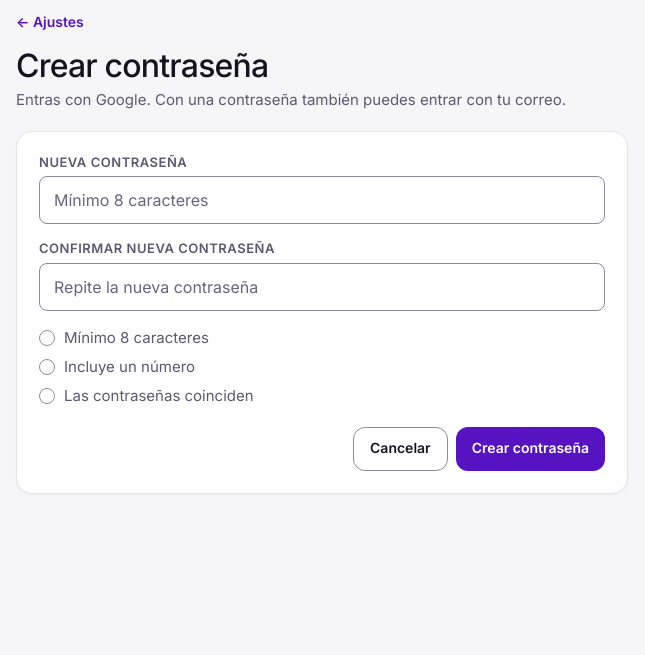
Test: Ajustes › offers "Crear contraseña" without a current password to an account that signs in with Google
Expected: the heading "Crear contraseña" is shown, [16,46,268,85]
Expected: the field labelled "CONTRASEÑA ACTUAL" is not shown
Type "nueva1234" into the password field labelled "NUEVA CONTRASEÑA" at point(322, 200), box [39,176,605,224]
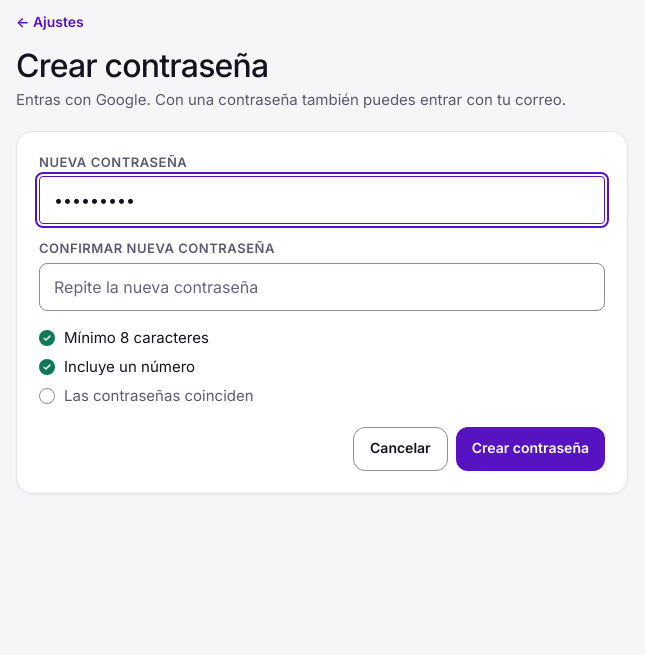
Type "nueva1234" into the password field labelled "CONFIRMAR NUEVA CONTRASEÑA" at point(322, 287), box [39,263,605,311]
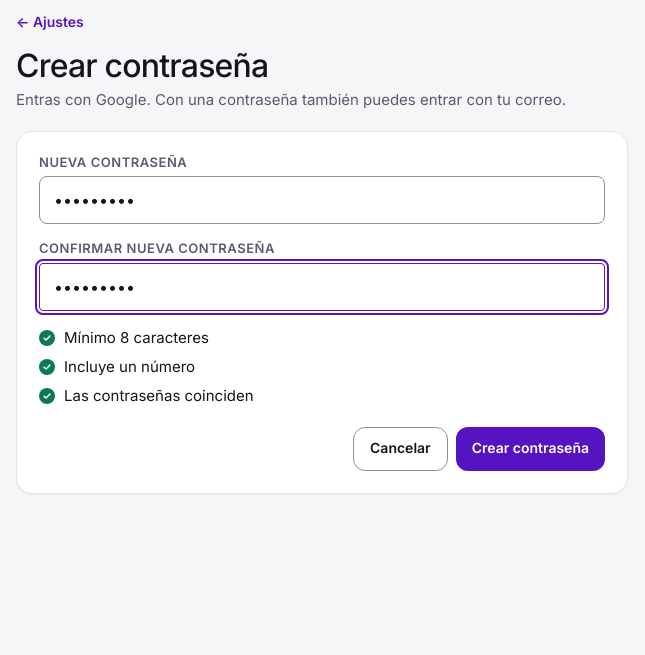
Click the button "Crear contraseña" at point(530, 449), box [456,427,605,471]
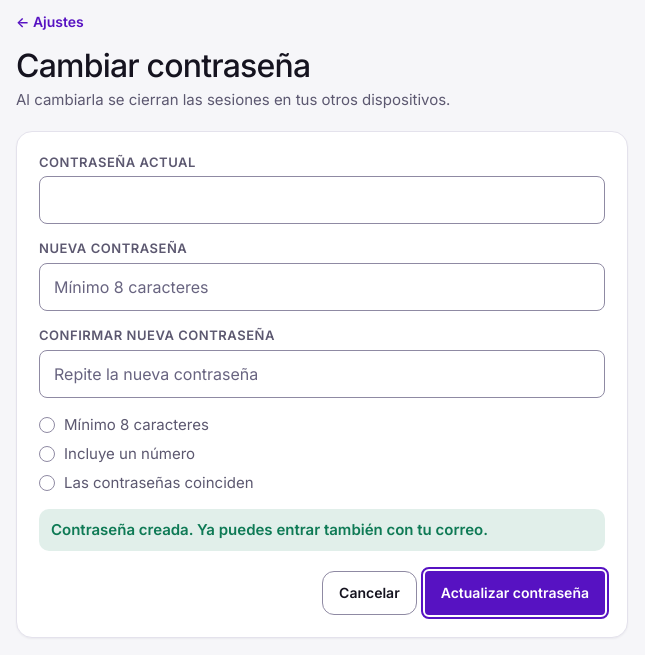
Now the text "Contraseña creada. Ya puedes entrar también con tu correo." is shown, box [39,510,605,551]
